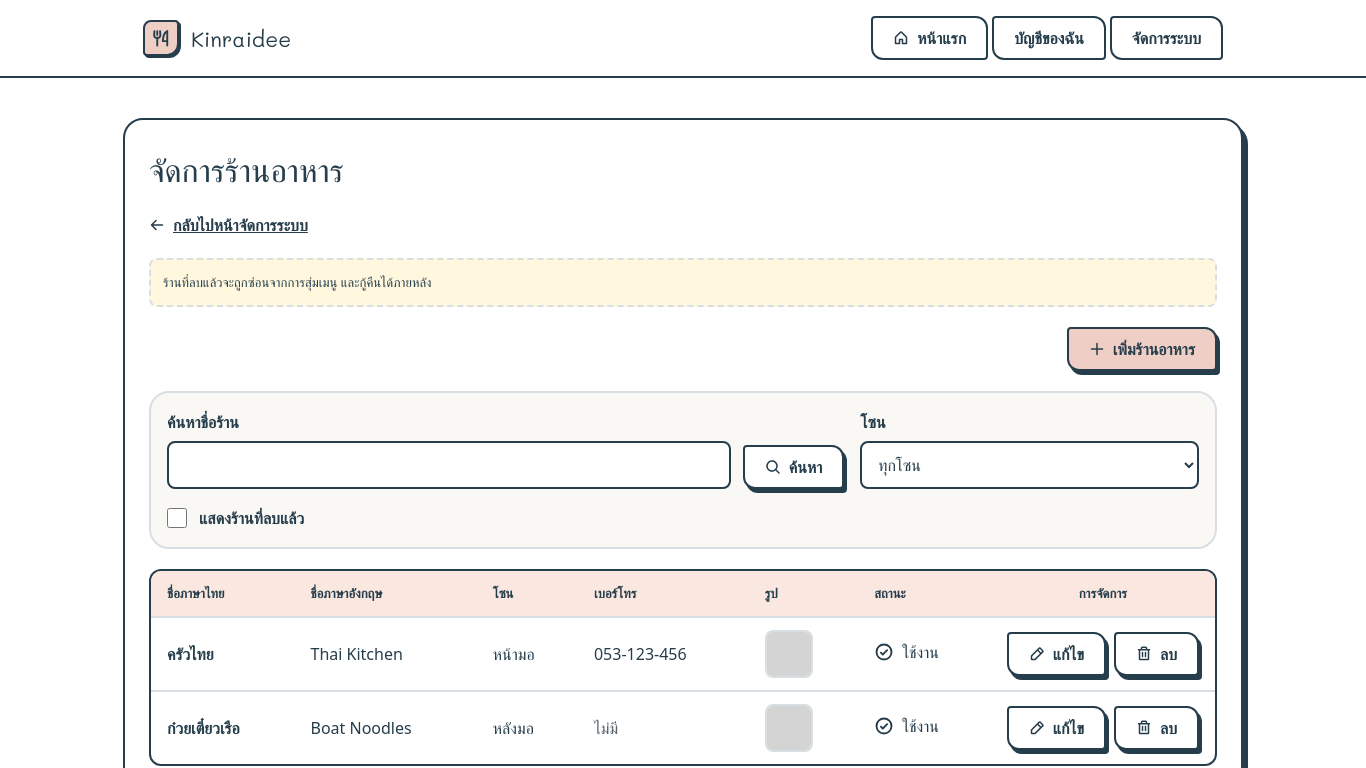
Test case: RestaurantsPage create and edit › validates Zone and localized names, focusing the first invalid field
This screenshot has width=1366, height=768.
Expected: the table named "รายการร้านอาหาร" is shown, [151,571,1215,764]
Click the button "เพิ่มร้านอาหาร".
click(1142, 349)  # box [1067,327,1217,371]
(page scrolled)
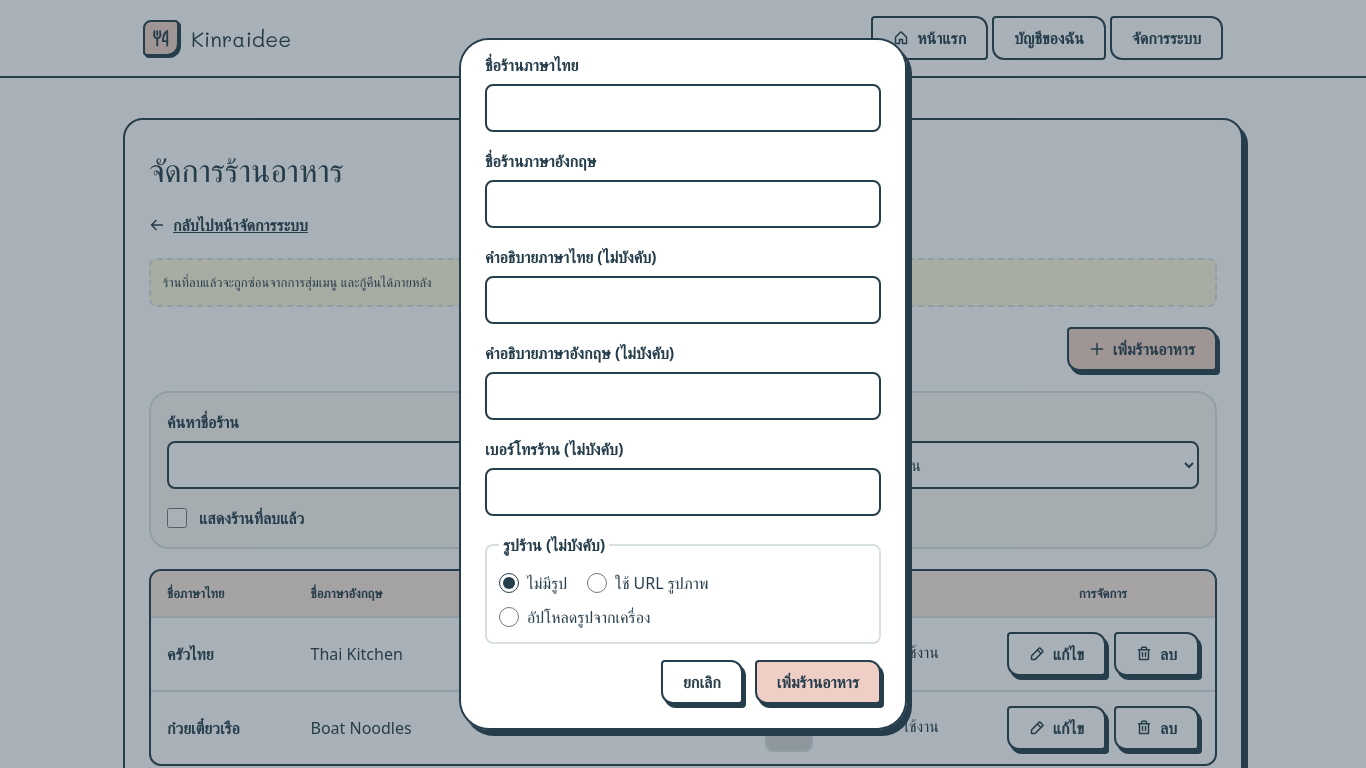
Click the button "เพิ่มร้านอาหาร".
click(818, 682)  # box [755,660,881,704]
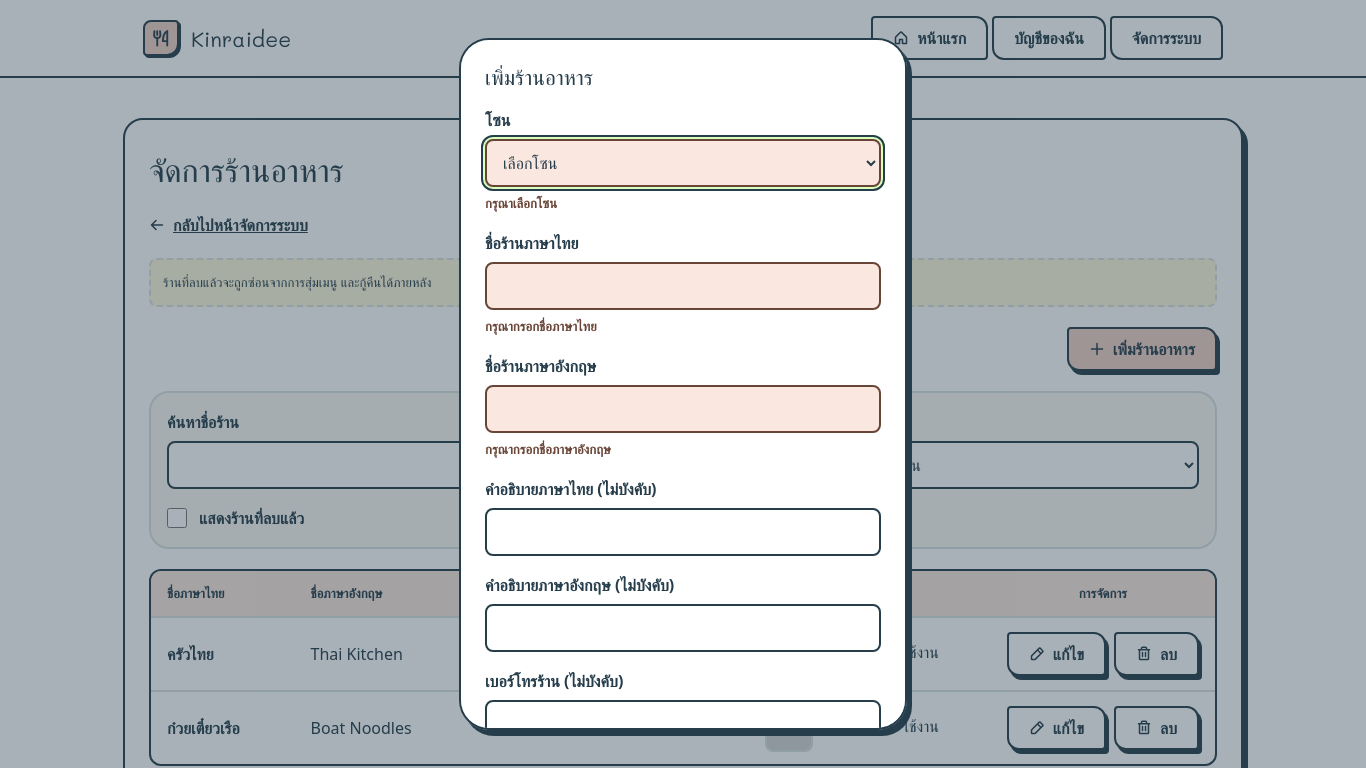
Now the text "กรุณาเลือกโซน" is shown, box [485,194,557,212]
Now the text "กรุณากรอกชื่อภาษาไทย" is shown, box [485,317,597,335]
Now the text "กรุณากรอกชื่อภาษาอังกฤษ" is shown, box [485,440,611,458]
